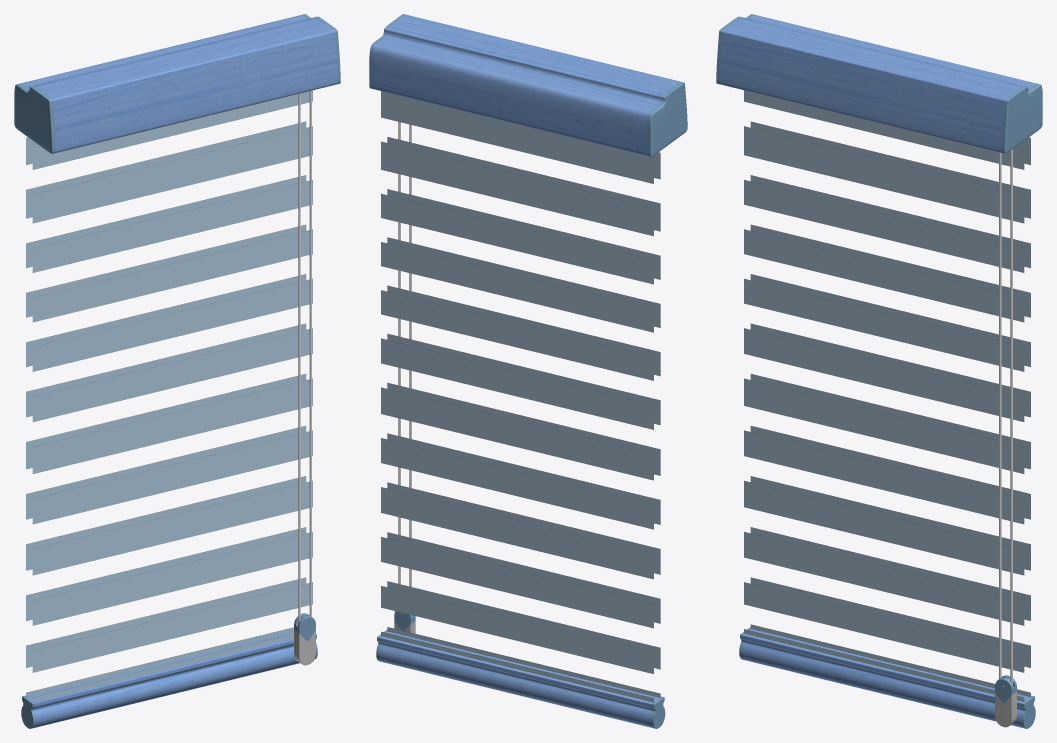
File: curtain_02_13.001.fbx
3 views of the same model, side by side, from view 1: azimuth 30°, elevation 25°; view 2: azimuth 150°, elevation 25°; view 3: azimuth 330°, elevation 25° (orthographic). The views are drawn at different scales.
Visible parts, largest first — view 1: curtain_02_13.001; view 2: curtain_02_13.001; view 3: curtain_02_13.001.
Part boxes in pixels (<box>): curtain_02_13.001: <box>14,14,340,728</box>; curtain_02_13.001: <box>369,14,687,728</box>; curtain_02_13.001: <box>716,14,1042,728</box>.
Bounding box in the file's own units: 51.11 × 109 × 11.73.
1 material, 1 textured.
